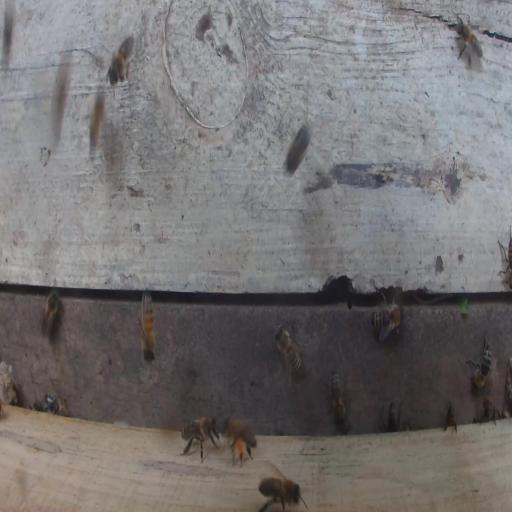bee: (274, 322, 307, 388), (221, 413, 259, 468), (106, 34, 136, 103), (179, 414, 221, 463), (255, 472, 301, 512), (453, 12, 483, 69), (371, 296, 405, 343), (136, 287, 156, 366), (327, 369, 352, 427), (466, 334, 492, 389), (37, 288, 64, 338), (285, 123, 310, 176), (497, 224, 512, 292), (377, 402, 407, 433), (43, 388, 69, 417), (478, 399, 496, 426), (444, 402, 457, 435)
